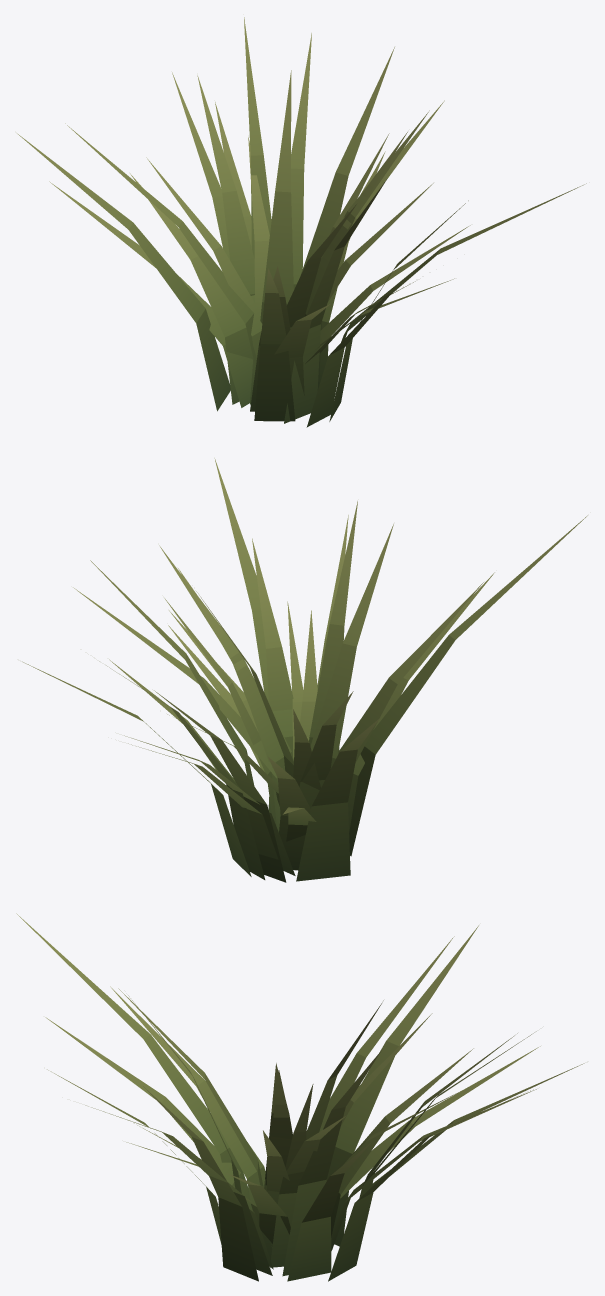
Rendered from grass_green_03.glb.
3 views of the same model, one above another, from view 1: azimuth 30°, elevation 25°; view 2: azimuth 150°, elevation 25°; view 3: azimuth 270°, elevation 25° (orthographic). The views are drawn at different scales.
Visible parts, largest first — view 1: grass_green_03; view 2: grass_green_03; view 3: grass_green_03.
Part boxes in pixels (x1,y1,x2,y2): grass_green_03: (17,17,586,427); grass_green_03: (22,458,587,882); grass_green_03: (16,913,584,1281).
Size of the model in its own units: 0.7422 by 0.5474 by 0.9872.
